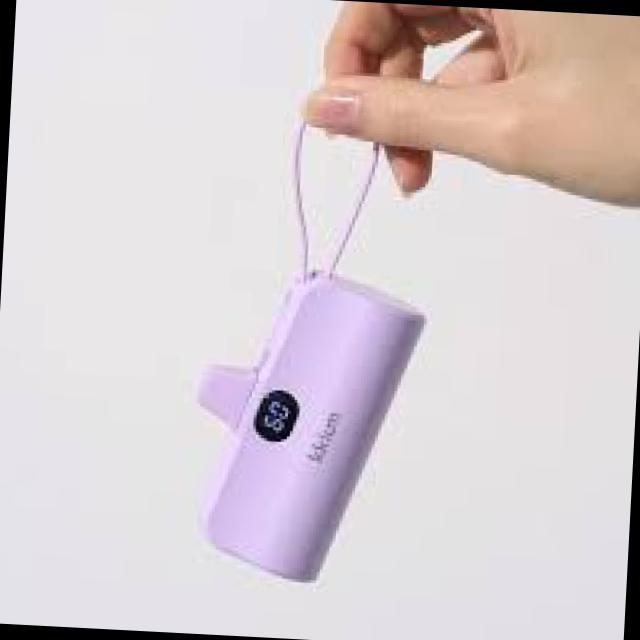portable-charger: (192, 258, 426, 588)
